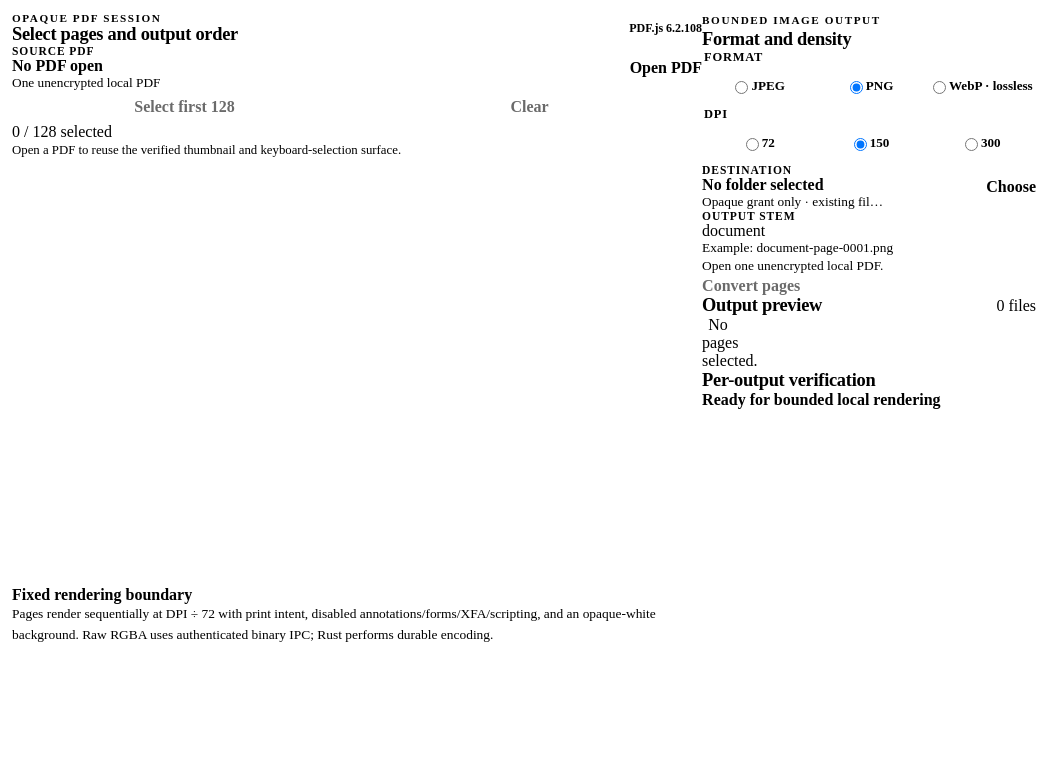
Test: PDF-to-images operation lifecycle › cancels before create starts without creating a native job
Click the button "Open PDF".
click(666, 68)  # box [630,59,702,77]
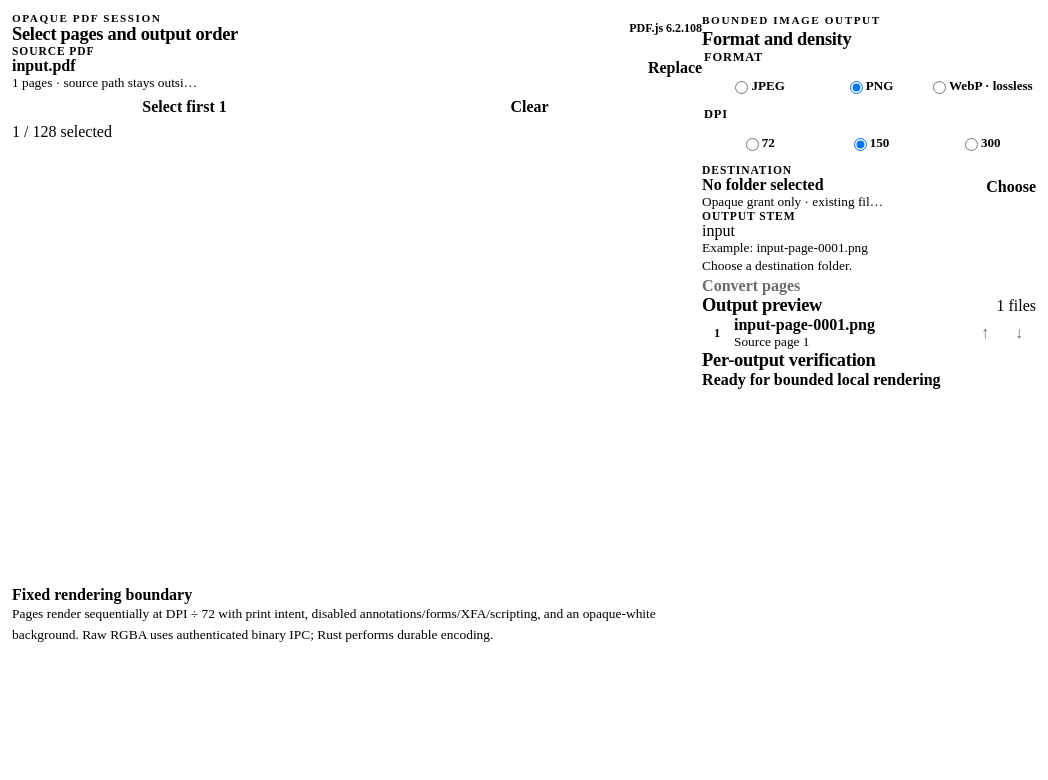
Check: the text "input.pdf" is shown, box [12,57,76,74]
Click the button "Choose".
click(1011, 187)  # box [986,178,1036,196]
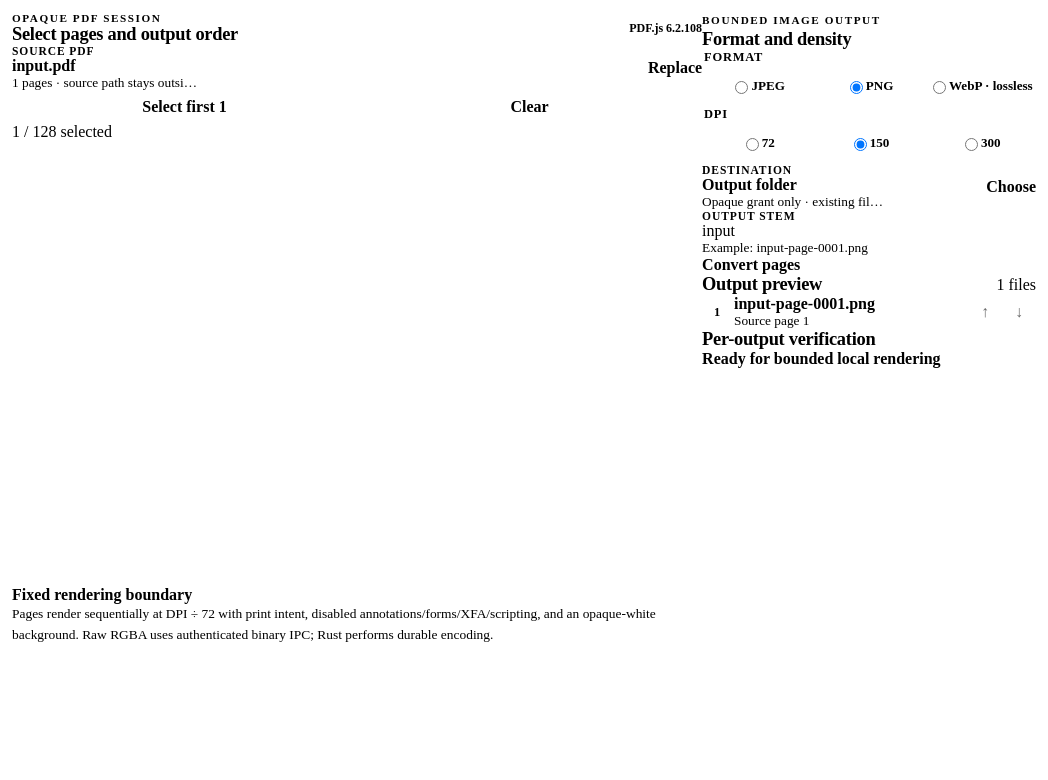
Check: the text "Output folder" is shown, box [702,176,797,193]
Click the button "Convert pages".
click(751, 265)  # box [702,256,800,274]
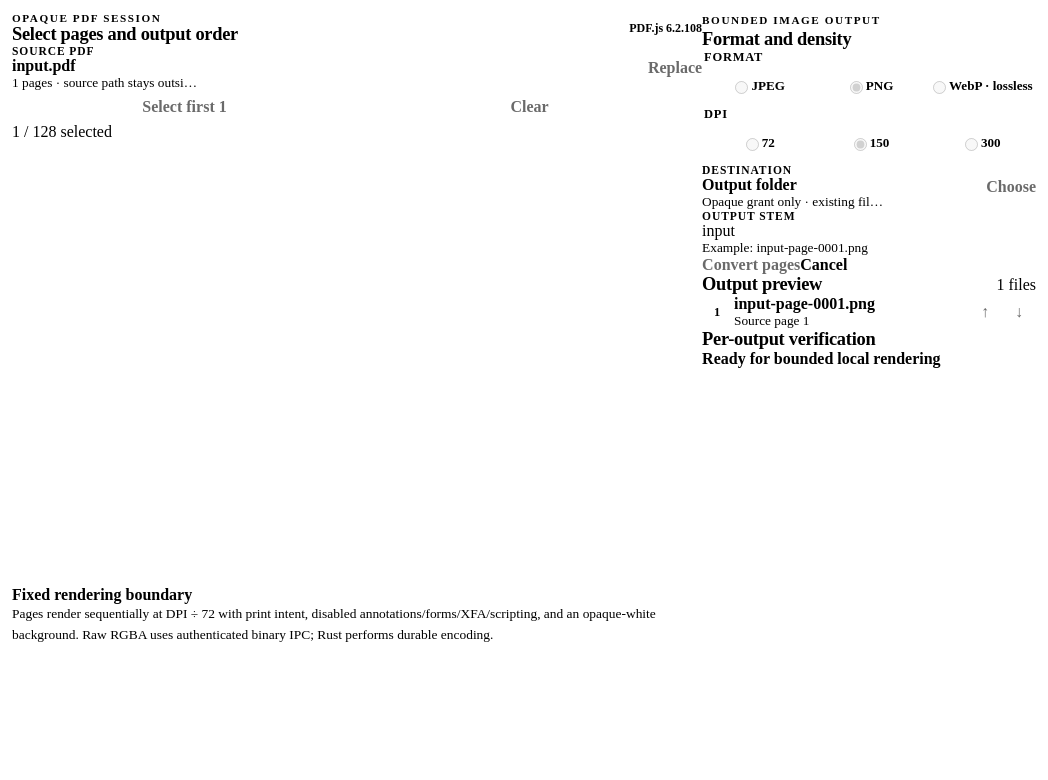
Click the button "Cancel".
click(824, 265)  # box [800,256,847,274]
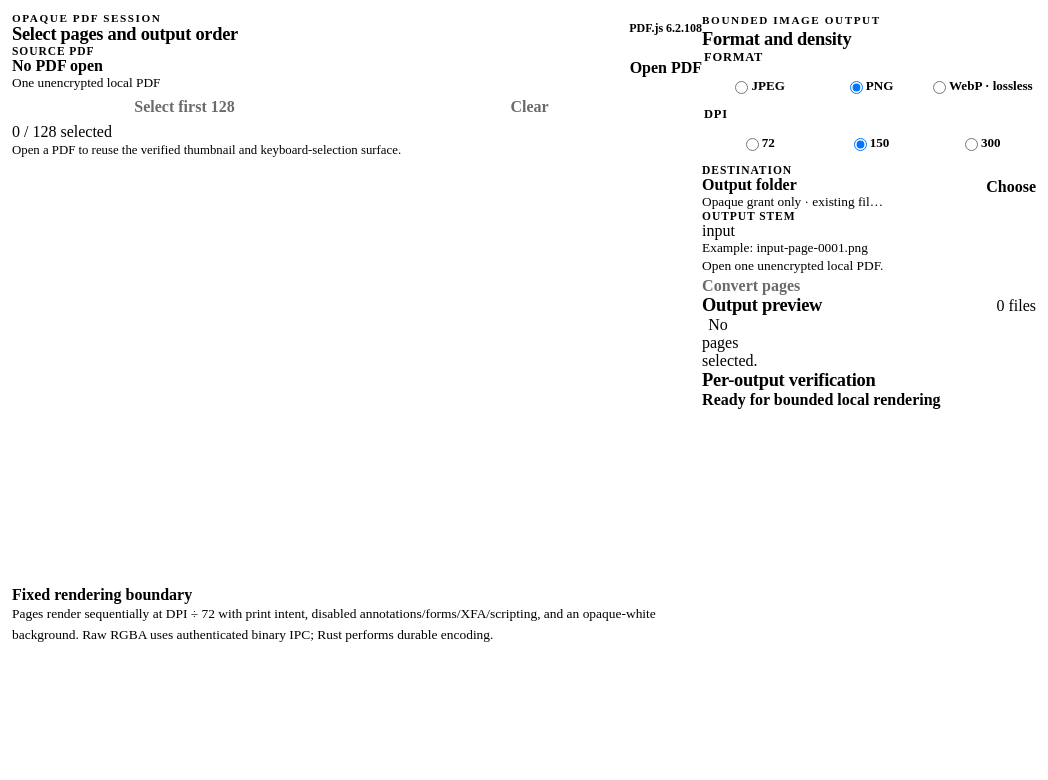
Check: the button "Open PDF" is enabled, box [630,59,702,77]
